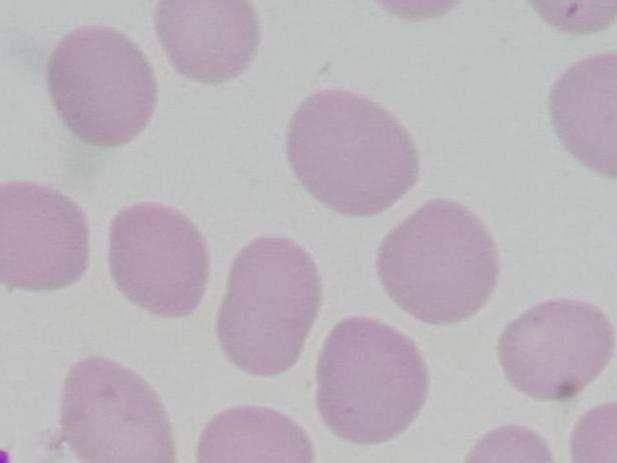Uninfected: (289, 89, 418, 217), (378, 203, 501, 322), (316, 318, 430, 444), (216, 238, 317, 377), (45, 23, 156, 148), (105, 200, 210, 317), (61, 358, 178, 463), (498, 297, 611, 402), (0, 183, 89, 293), (154, 0, 260, 85), (196, 399, 315, 463)
